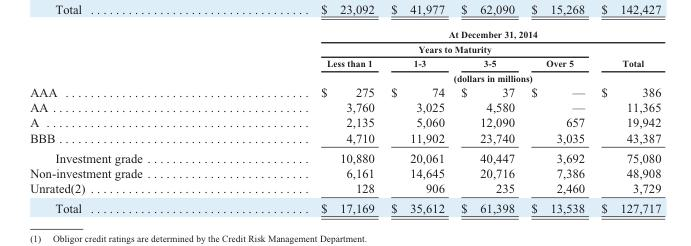table: (29, 28, 660, 214)
table column: (29, 28, 231, 214), (231, 28, 382, 214), (382, 28, 452, 214), (452, 28, 522, 214), (522, 28, 592, 214), (592, 28, 660, 214)
table column header: (29, 28, 660, 84)
table row: (29, 129, 660, 147), (29, 147, 660, 165), (29, 180, 660, 197), (29, 197, 660, 214), (29, 55, 660, 70), (29, 84, 660, 99), (29, 99, 660, 114), (29, 114, 660, 129), (29, 165, 660, 180), (29, 41, 660, 55), (29, 70, 660, 84), (29, 28, 660, 41)
table spanning cell: (231, 70, 660, 84), (231, 28, 660, 41), (231, 41, 592, 55), (592, 41, 660, 70)
